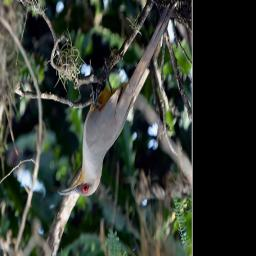Cuckoo: (57, 0, 178, 199)
